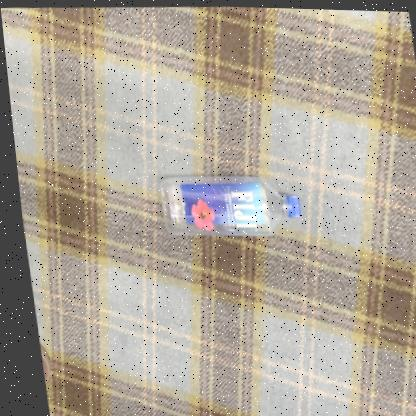Plastic: (155, 175, 296, 234)
